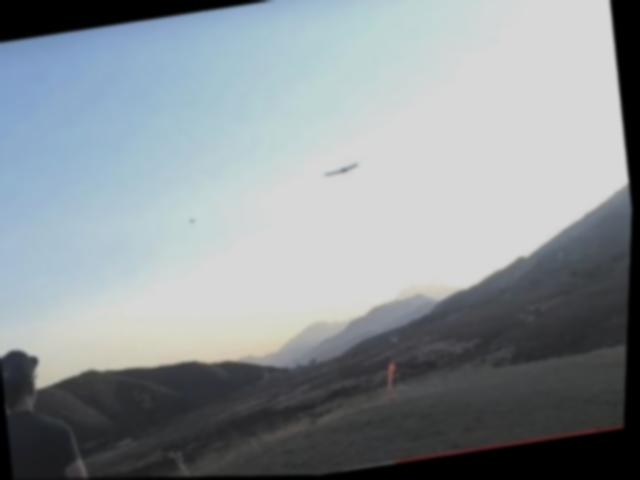iha: (324, 160, 360, 184)
